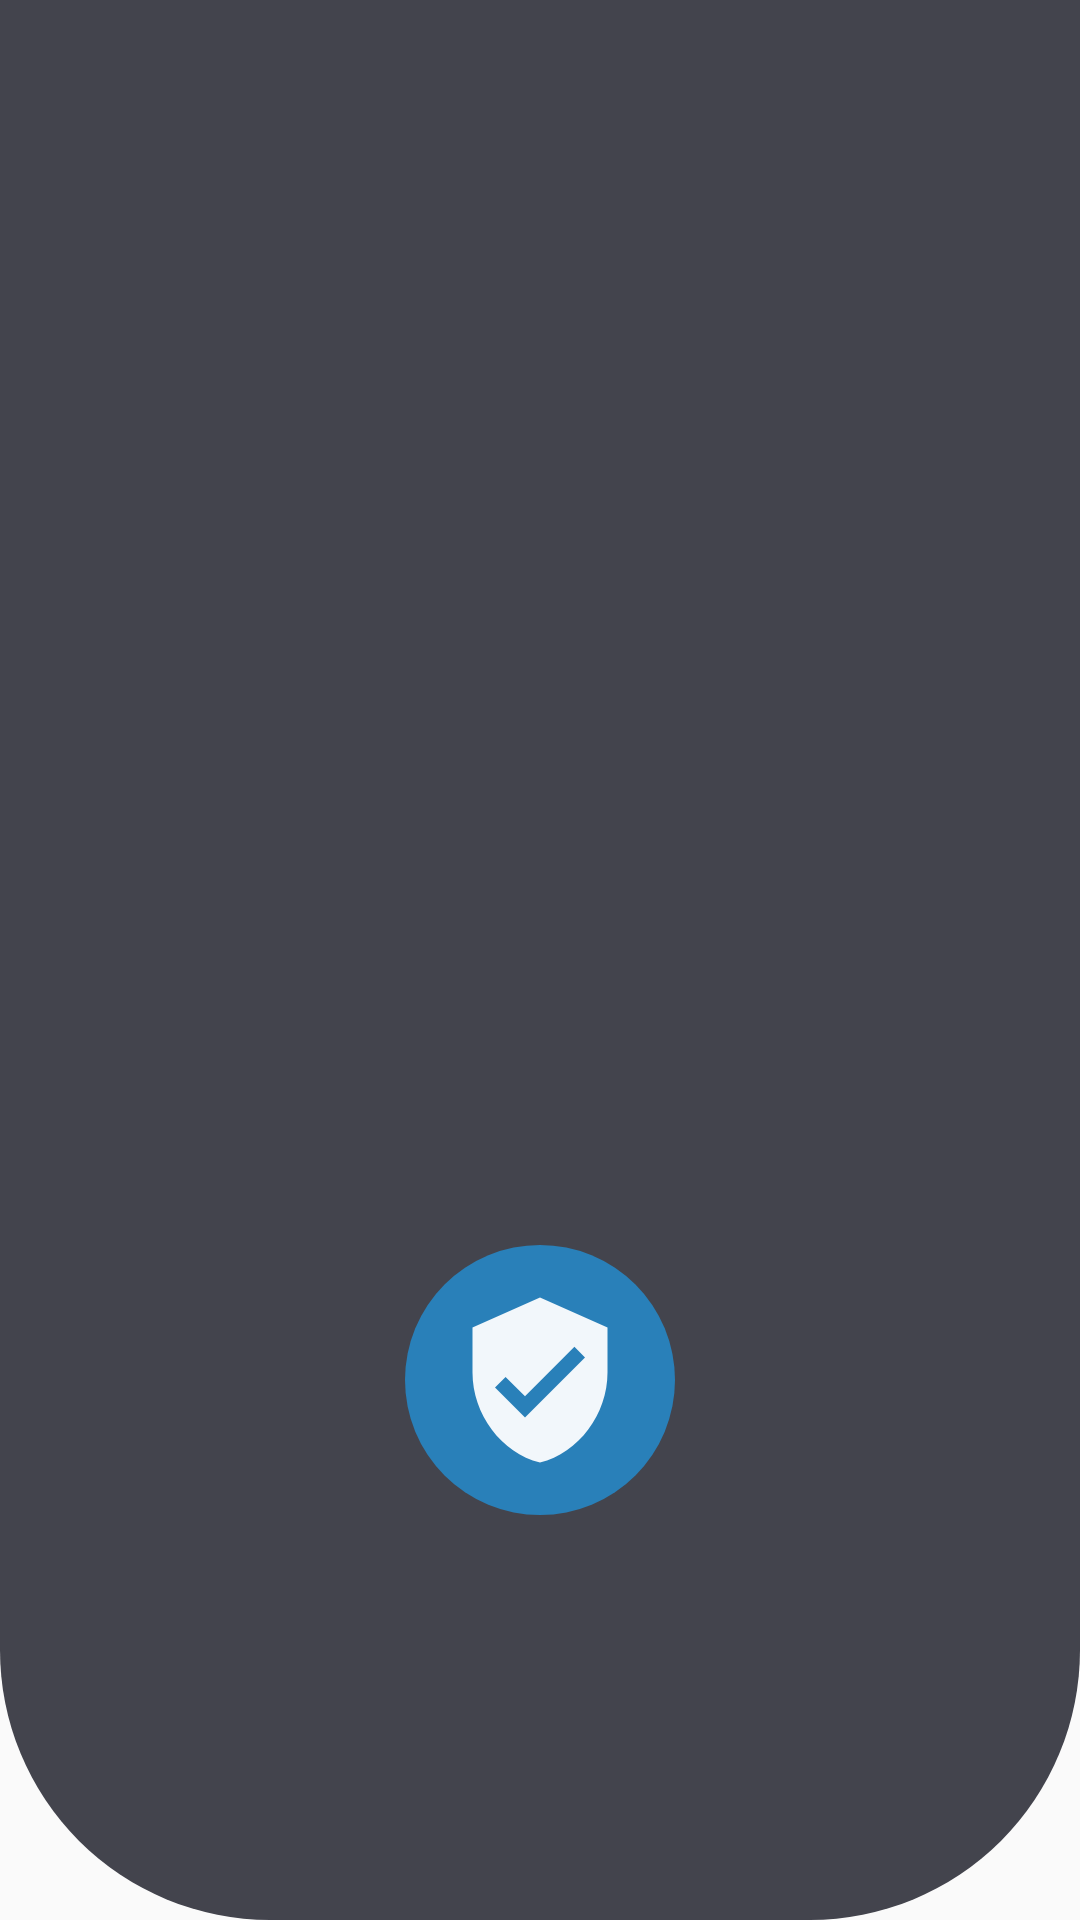

Icons on this 1080x1920 Android screen, each with its box as (x1, y1, x2, y2):
verified: (405, 1245, 675, 1515)
